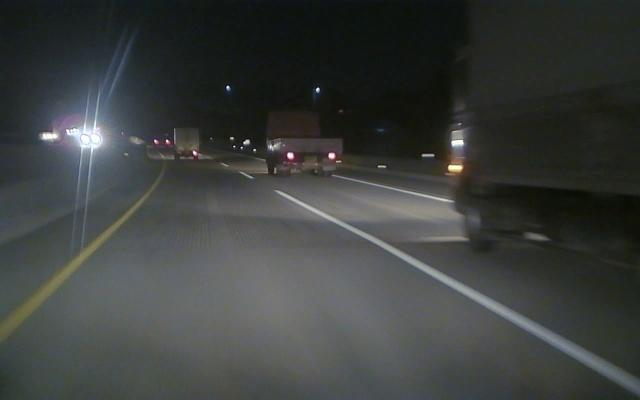lane: (282, 191, 640, 393), (0, 184, 158, 350), (332, 175, 454, 204)
